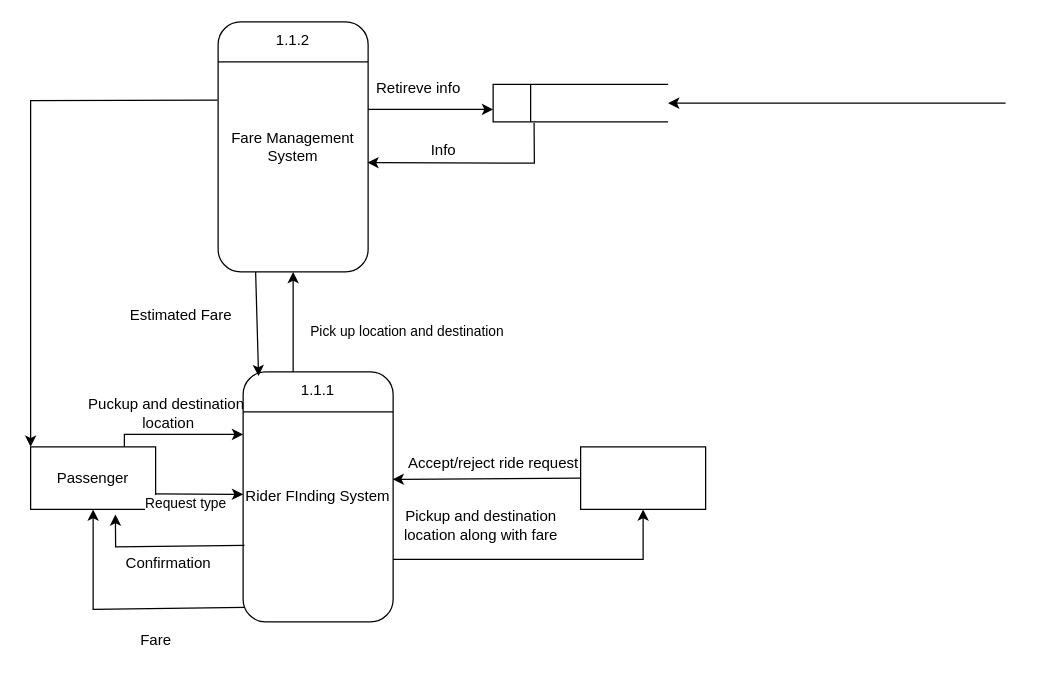
Image size: 1038x681. Some labels were removed from this diagram. The centre of each missing label's shape, as x and y in pixels:
D Location Database: (x=580, y=102)
Driver: (x=642, y=477)
